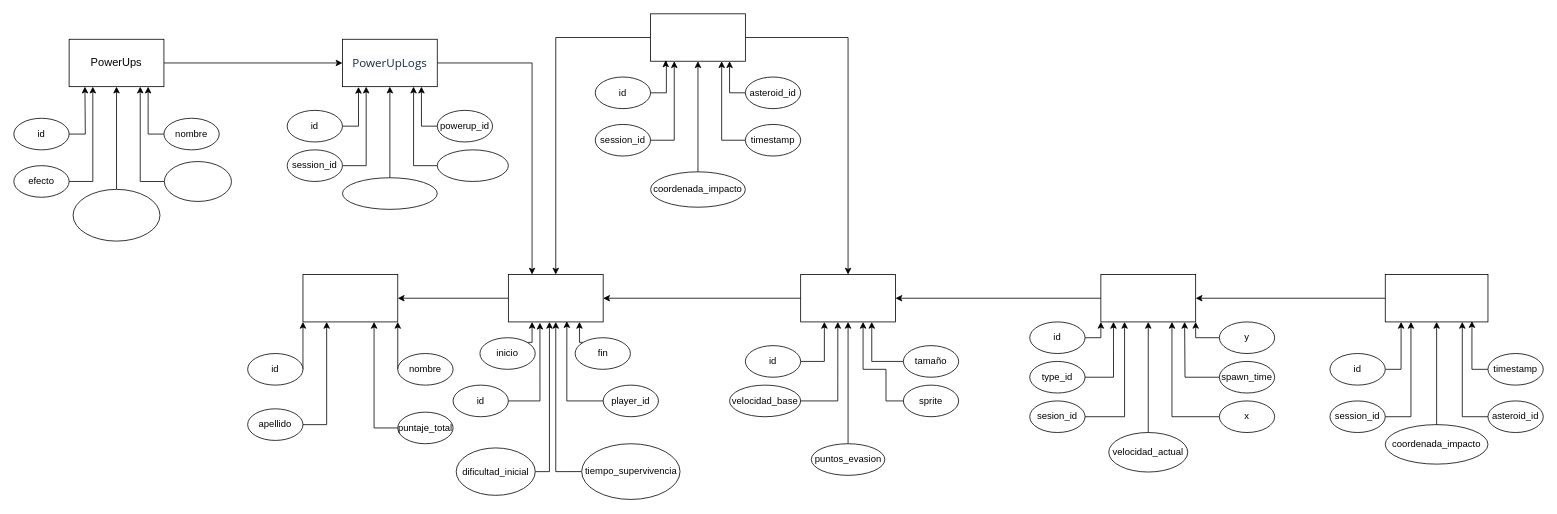
Image size: 1557x514. Some labels were removed from this diagram. Here are the shapes that lost their labels. From the top down, the box of each, then its label:
(650, 13, 745, 61): Registros_colisiones
(164, 161, 231, 201): duracion_base
(436, 149, 508, 181): timestamp_fin
(342, 177, 437, 209): timestamp_aplicaión
(72, 189, 160, 241): probabilidad_spawn
(302, 274, 398, 322): jugador
(508, 274, 603, 322): sesiones
(800, 274, 895, 322): tipos_asteroides
(1100, 274, 1196, 322): Instancias_asteroides
(1384, 274, 1488, 322): marcador_de_esquives
